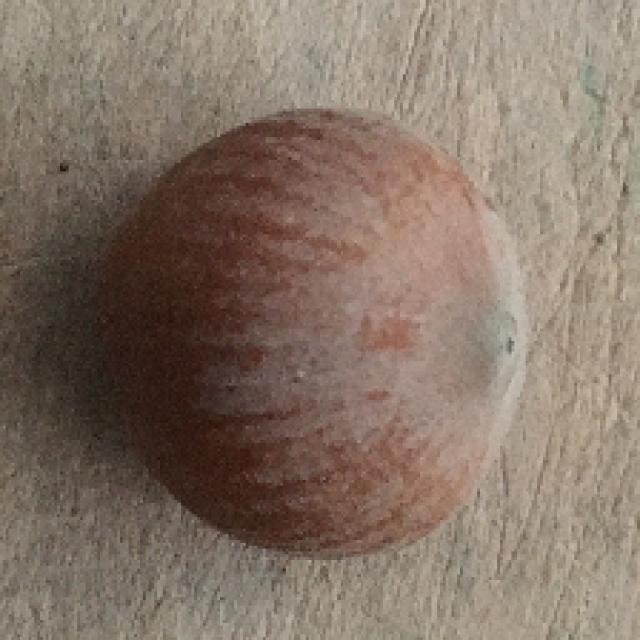qualityHazelnut: (102, 109, 539, 562)
